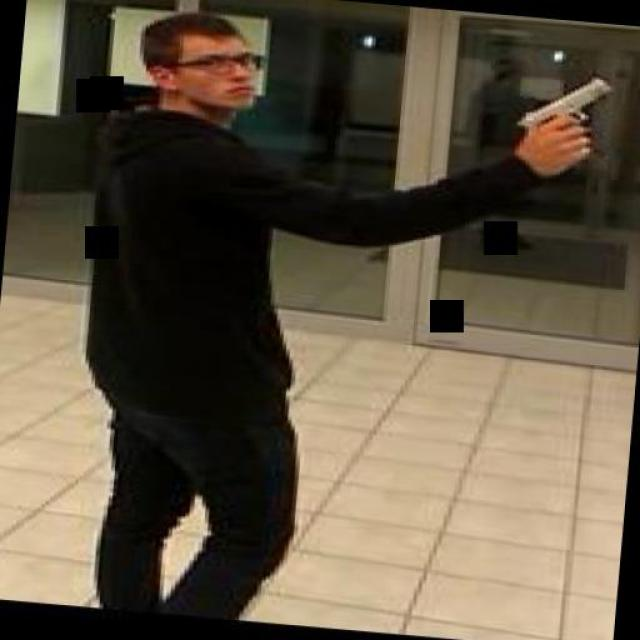gun: (503, 69, 608, 156)
